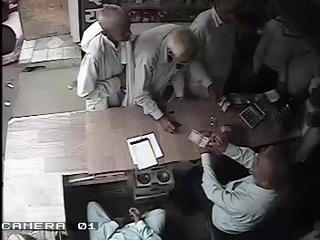Normal: (194, 128, 294, 240), (126, 24, 199, 134), (188, 0, 244, 106), (86, 200, 166, 240)
shoplifting: (76, 4, 132, 112)
